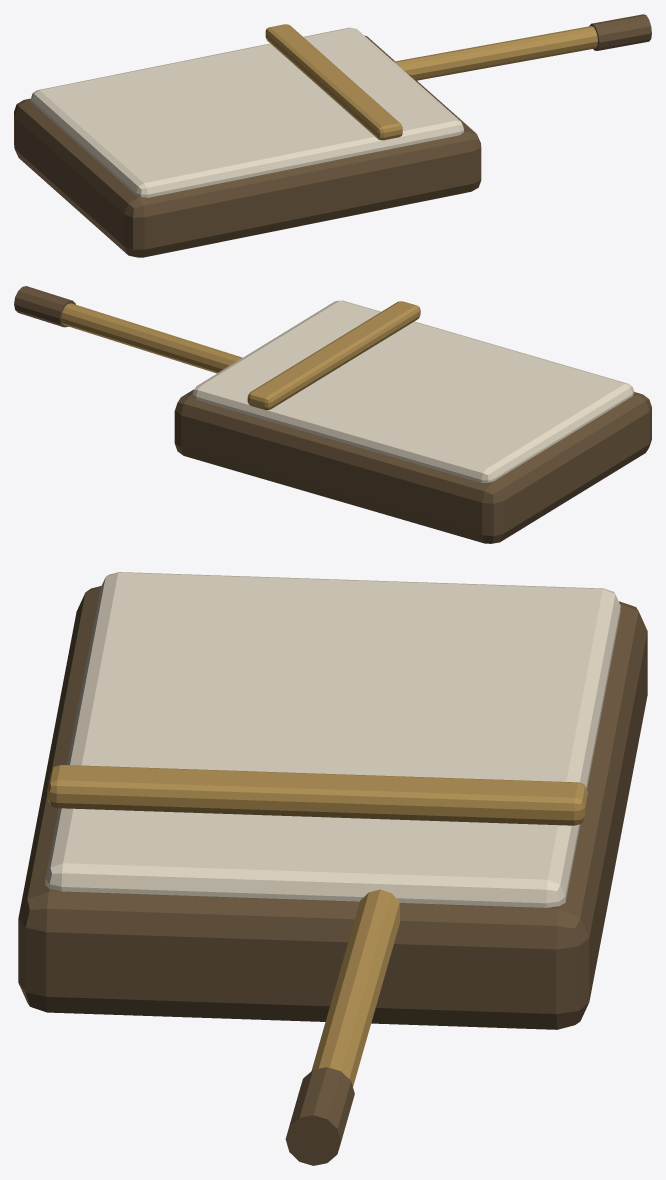
File: writing_set.glb
3 renders of one model, top to bottom at view 1: azimuth 30°, elevation 25°; view 2: azimuth 150°, elevation 25°; view 3: azimuth 270°, elevation 25°, orthographic. The views are drawn at different scales.
Visible parts, largest first — view 1: NotebookPages, NotebookCover, FountainPen, NotebookBand, PenGrip; view 2: NotebookPages, NotebookCover, NotebookBand, FountainPen, PenGrip; view 3: NotebookPages, NotebookCover, NotebookBand, FountainPen, PenGrip.
Part boxes in pixels (left/top/right/bottom): NotebookPages: left=31, top=27, right=463, bottom=197; NotebookCover: left=14, top=35, right=481, bottom=257; FountainPen: left=394, top=26, right=597, bottom=80; NotebookBand: left=265, top=24, right=402, bottom=140; PenGrip: left=589, top=14, right=651, bottom=50; NotebookPages: left=192, top=300, right=634, bottom=482; NotebookCover: left=174, top=389, right=651, bottom=543; NotebookBand: left=247, top=301, right=420, bottom=410; FountainPen: left=61, top=303, right=242, bottom=373; PenGrip: left=14, top=286, right=75, bottom=327; NotebookPages: left=45, top=572, right=620, bottom=907; NotebookCover: left=18, top=586, right=647, bottom=1029; NotebookBand: left=47, top=765, right=587, bottom=825; FountainPen: left=311, top=889, right=399, bottom=1086; PenGrip: left=285, top=1067, right=354, bottom=1165.
Bounding box in the file's own units: 0.5212 × 0.072 × 0.2471.
